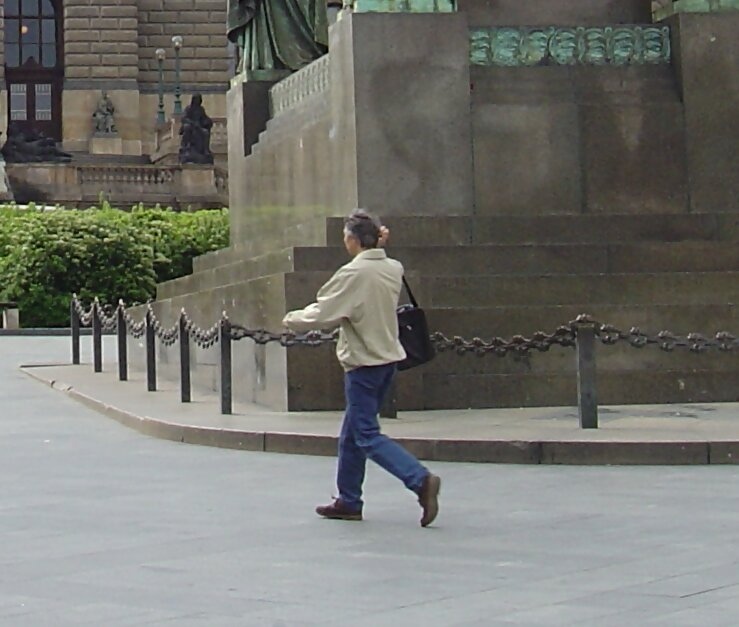person: (286, 206, 462, 529)
